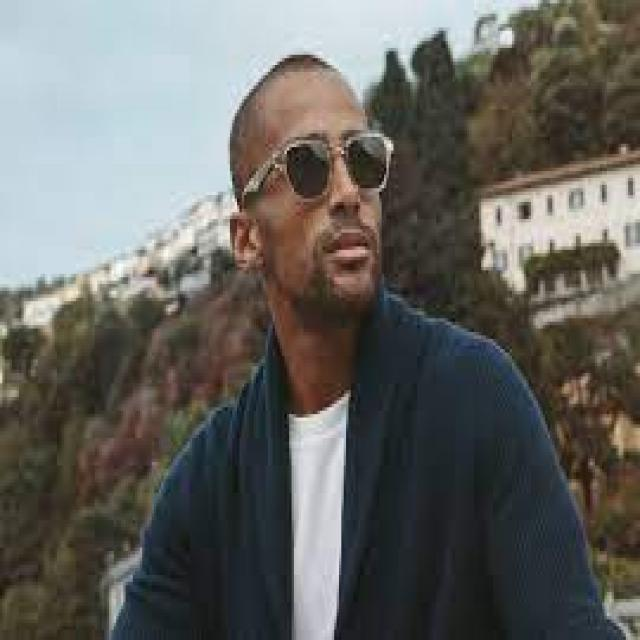suspicious-objects: (274, 124, 397, 205)
